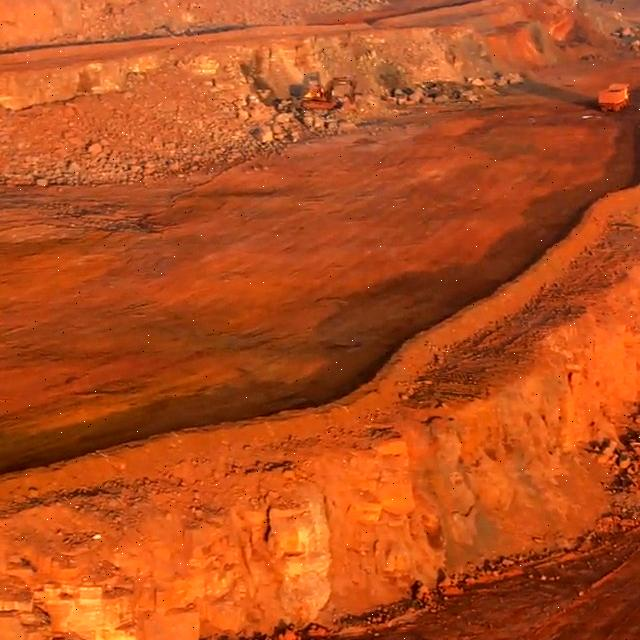Dumper truck: (602, 84, 626, 110)
Excavator: (303, 78, 357, 111)
